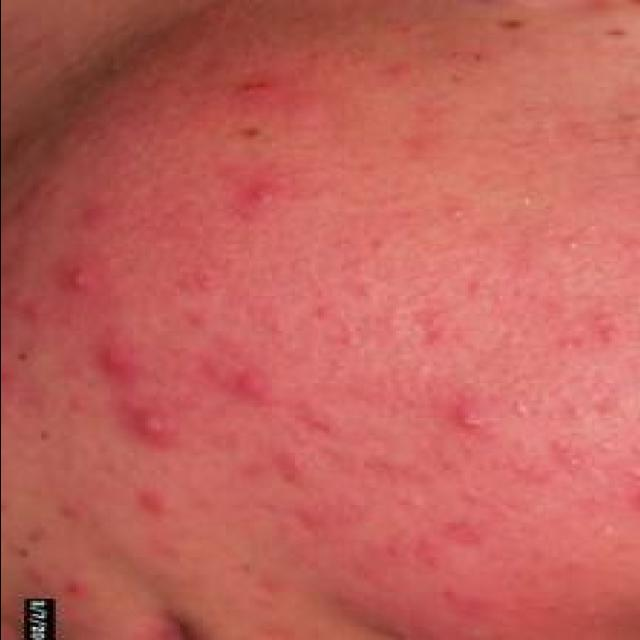Acne: (230, 167, 306, 219), (94, 328, 152, 391), (118, 402, 186, 454), (446, 394, 503, 444), (55, 257, 106, 301), (232, 362, 282, 406), (232, 68, 287, 106), (584, 307, 626, 353), (270, 446, 312, 490), (74, 200, 118, 238), (134, 486, 182, 518), (56, 573, 100, 604), (438, 198, 478, 228)
